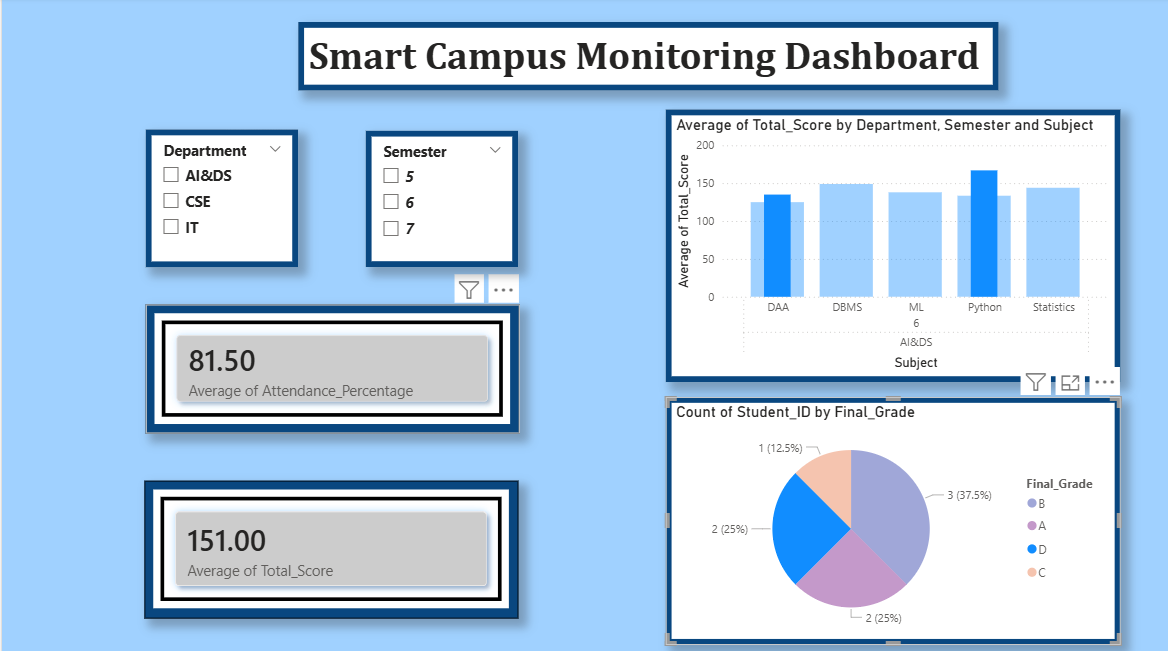

Layout of this report page (visuals, bound fields, positions):
{"tool":"powerbi","page":{"name":"Page 1","canvas":[1280,720],"ordinal":0},"visuals":[{"type":"textbox","box":[325.2,27.4,768.4,75.5],"z":0},{"type":"cardVisual","fields":{"Data":["Avg(5 student_performance.Attendance_Percentage)"]},"box":[157.8,337.6,410.3,141.3],"z":1000},{"type":"cardVisual","fields":{"Data":["Avg(5 student_performance.Total_Score)"]},"box":[156.4,531,410.3,150.9],"z":2000},{"type":"slicer","fields":{"Values":["5 student_performance.Department"]},"box":[157.8,145.5,167.4,150.9],"z":3000},{"type":"slicer","fields":{"Values":["5 student_performance.Semester"]},"box":[399.3,146.8,167.4,149.6],"z":4000},{"type":"clusteredColumnChart","fields":{"Y":["Avg(5 student_performance.Total_Score)"],"Category":["5 student_performance.Department","5 student_performance.Semester","5 student_performance.Subject"]},"box":[728.6,123.5,499.5,299.1],"z":5000},{"type":"pieChart","fields":{"Category":["5 student_performance.Final_Grade"],"Y":["CountNonNull(5 student_performance.Student_ID)"]},"box":[728.6,439.1,499.5,271.7],"z":6000}]}

Visuals, with their boxes in screenshot pixels (x1, y1, x2, y2), scaled from the page's 1280x720 canvas onto the 1168x651 screenshot:
textbox: bbox=[297, 25, 998, 93]
cardVisual - Avg(5 student_performance.Attendance_Percentage): bbox=[144, 305, 518, 433]
cardVisual - Avg(5 student_performance.Total_Score): bbox=[143, 480, 517, 617]
slicer - 5 student_performance.Department: bbox=[144, 132, 297, 268]
slicer - 5 student_performance.Semester: bbox=[364, 133, 517, 268]
clusteredColumnChart - Avg(5 student_performance.Total_Score) x 5 student_performance.Department: bbox=[665, 112, 1121, 382]
pieChart - 5 student_performance.Final_Grade x CountNonNull(5 student_performance.Student_ID): bbox=[665, 397, 1121, 643]
